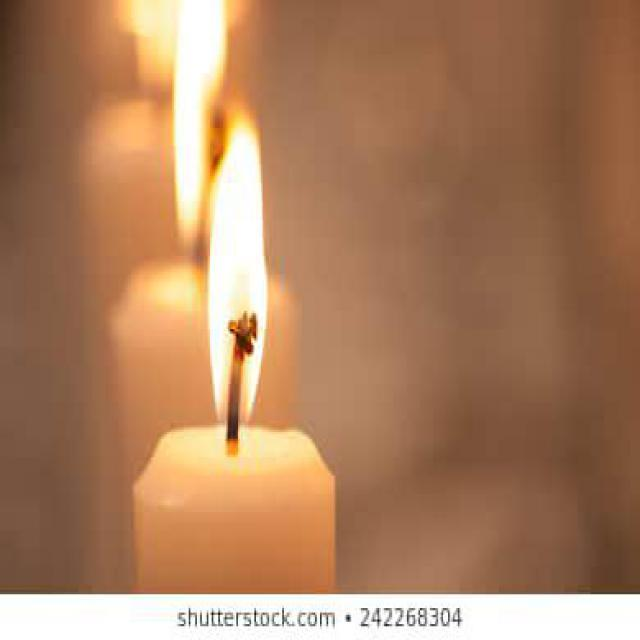Fire: (173, 0, 268, 425)
